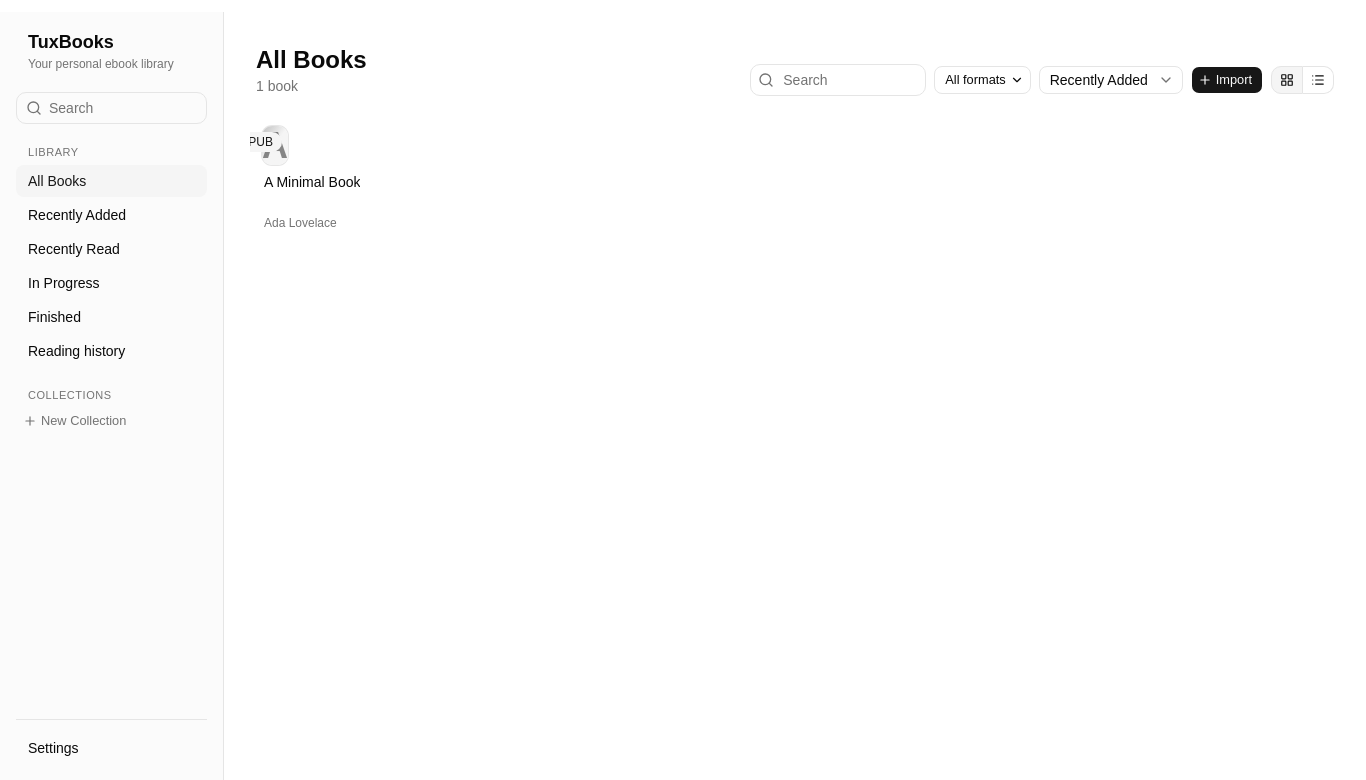
Test: GlobalSearch › opens the active result with Enter
Type "minimal" into the dropdown with test id "global-search".
click(112, 108); type("minimal")  # box top-left (16, 92), bottom-right (207, 124)
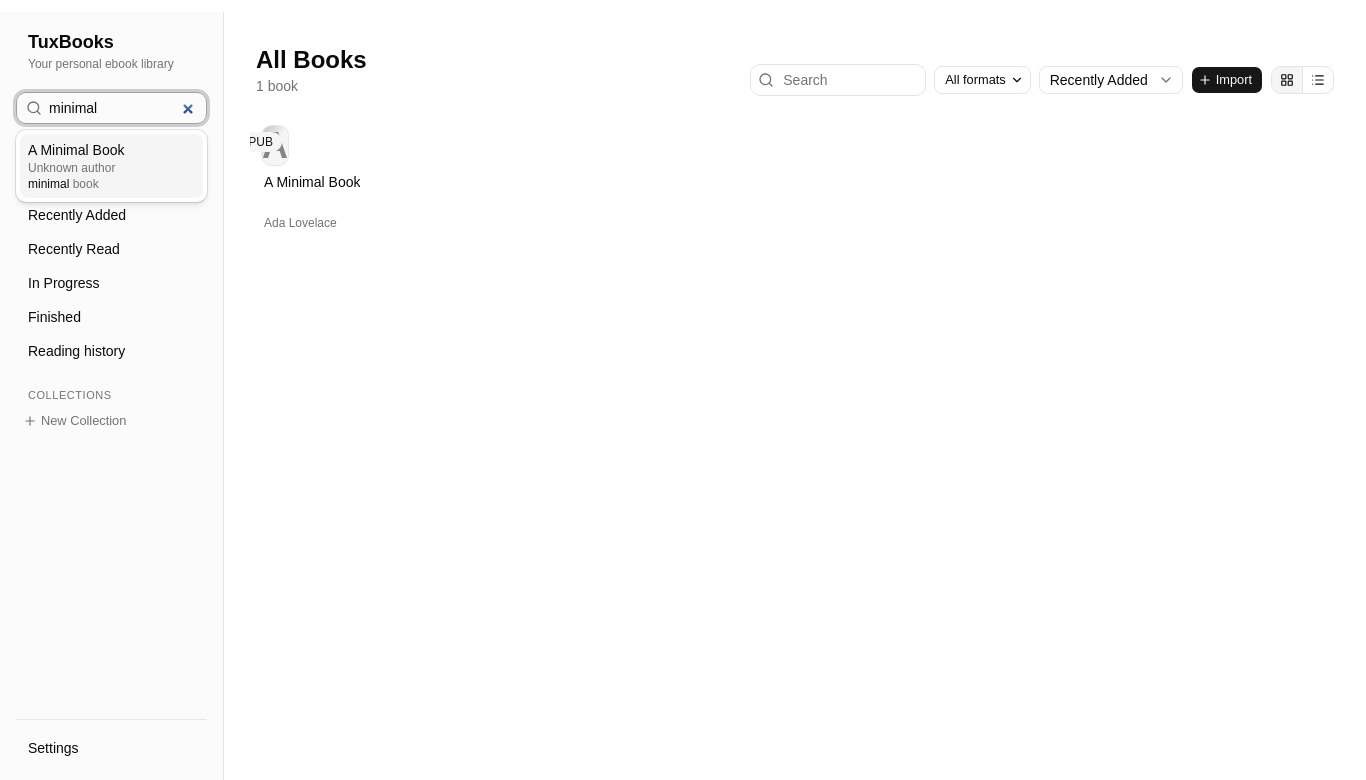
Expected: the option "A Minimal Book Unknown author minimal book" is shown, top-left (20, 134), bottom-right (203, 198)
Press ArrowDown in the dropdown with test id "global-search", box top-left (16, 92), bottom-right (207, 124)
Press Enter in the dropdown with test id "global-search", box top-left (16, 92), bottom-right (207, 124)
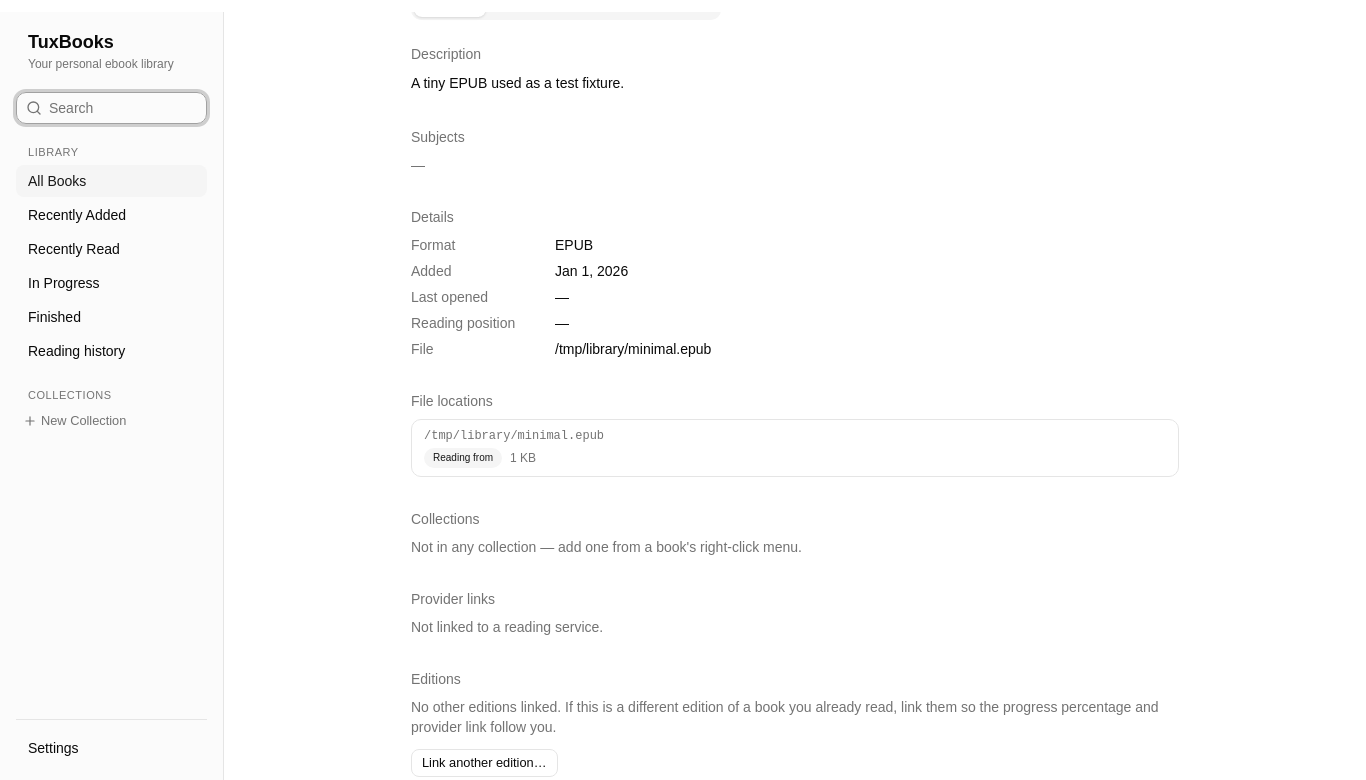
Expected: the element with test id "book-detail" is shown, top-left (411, 12), bottom-right (1179, 779)
